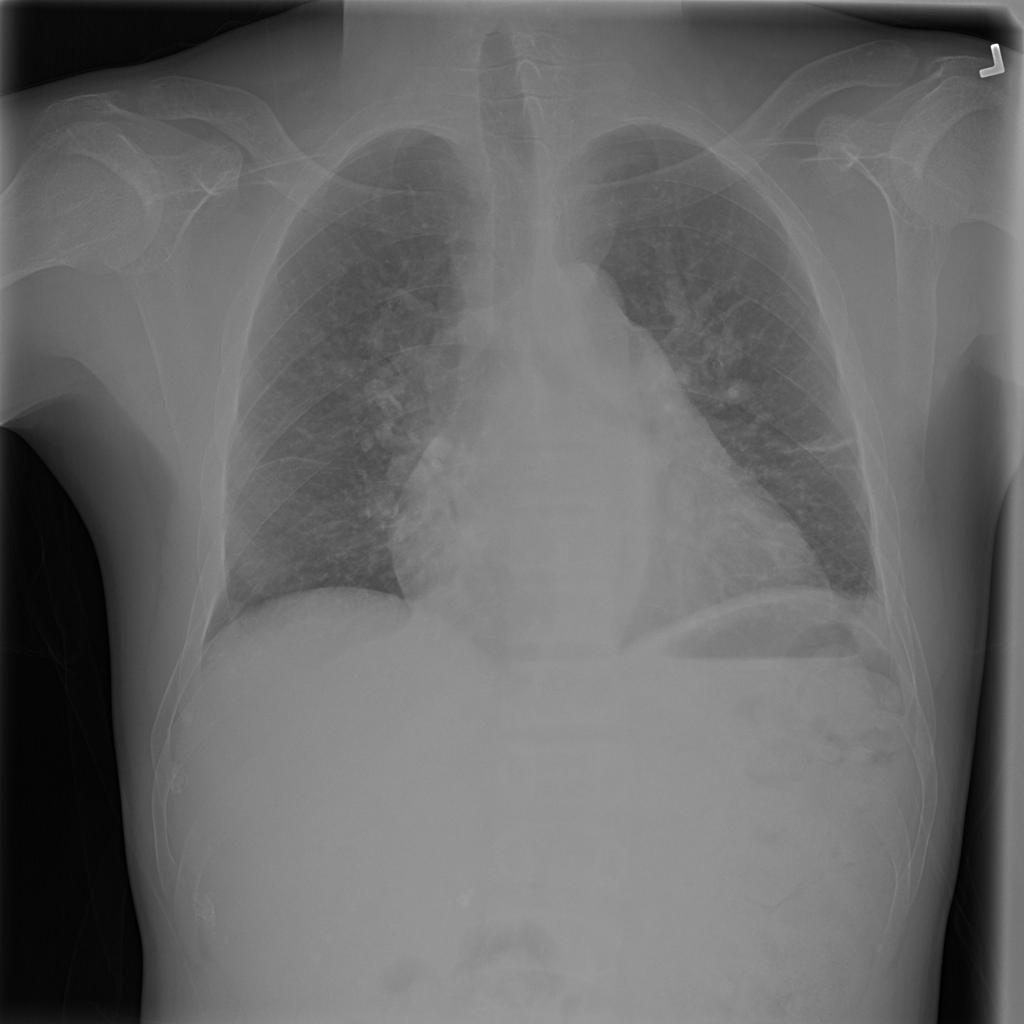Cardiomegaly: (390, 361, 842, 687)
